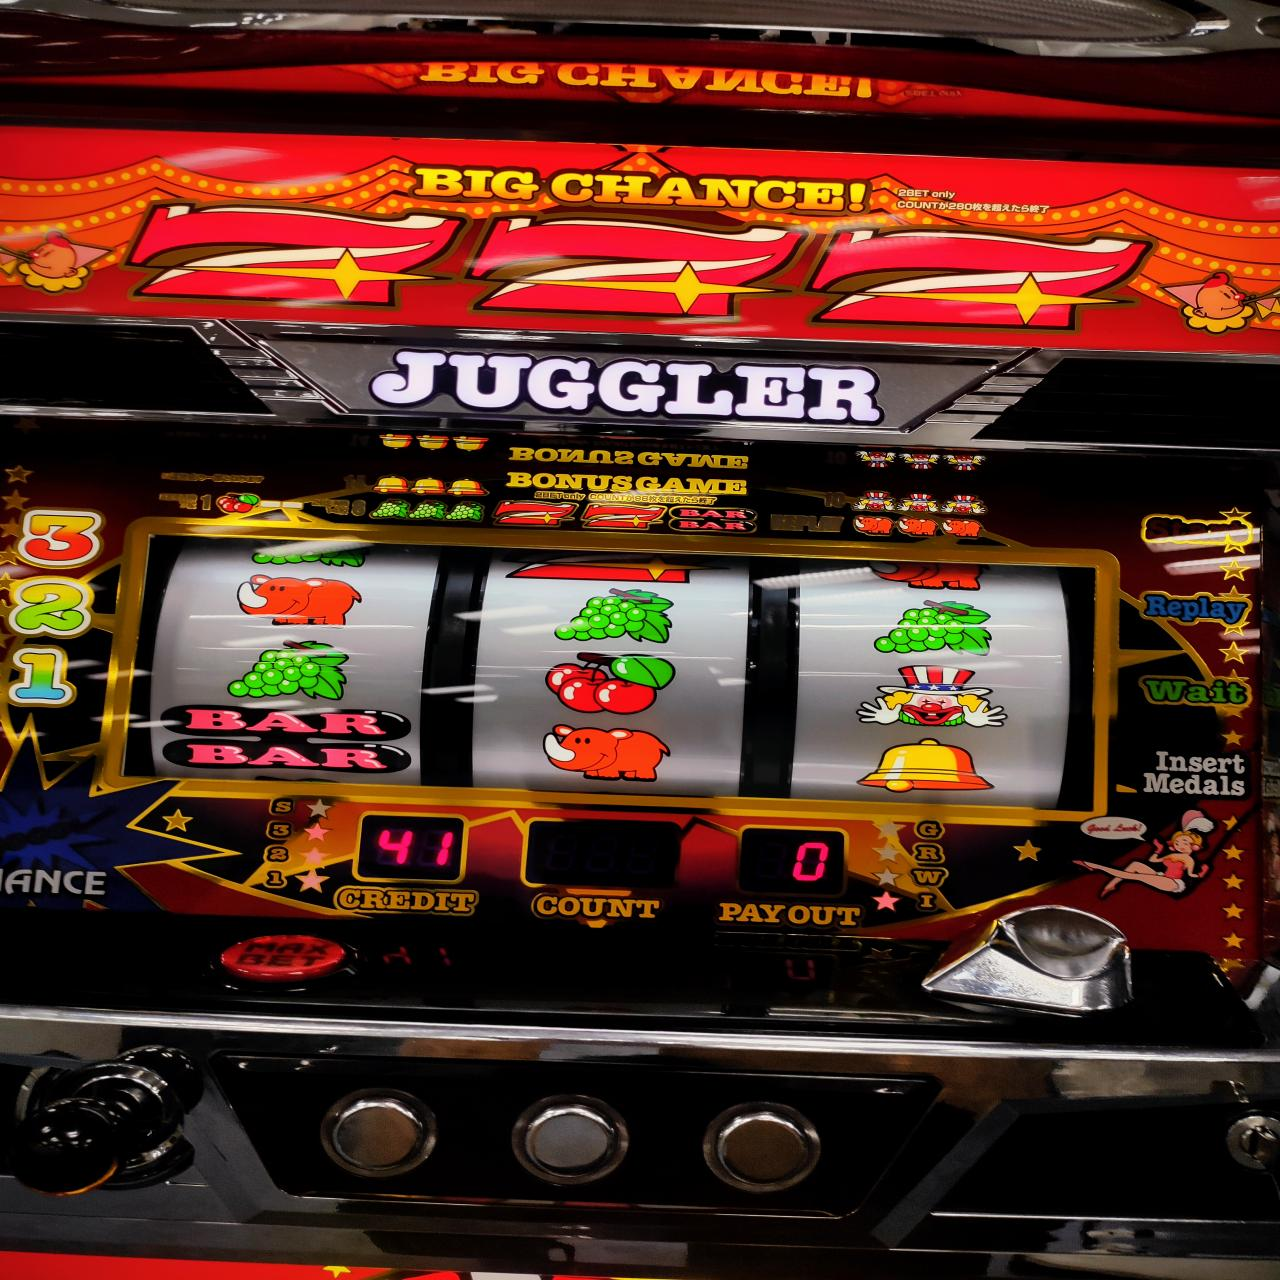8: (543, 723, 670, 782), (233, 572, 366, 627)
Display: (144, 529, 1102, 812)
bar: (165, 704, 410, 771)
bell: (852, 737, 996, 795)
cherry: (546, 651, 678, 715)
clown: (852, 665, 1008, 729)
grape: (227, 640, 353, 699), (871, 599, 994, 655), (553, 586, 675, 642)
